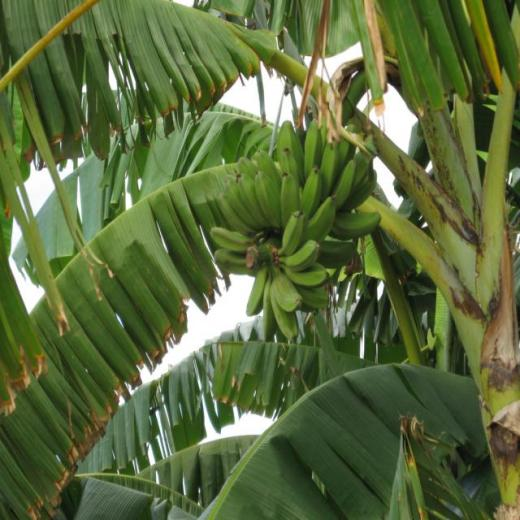Banana: (208, 105, 380, 345), (276, 270, 302, 314)
